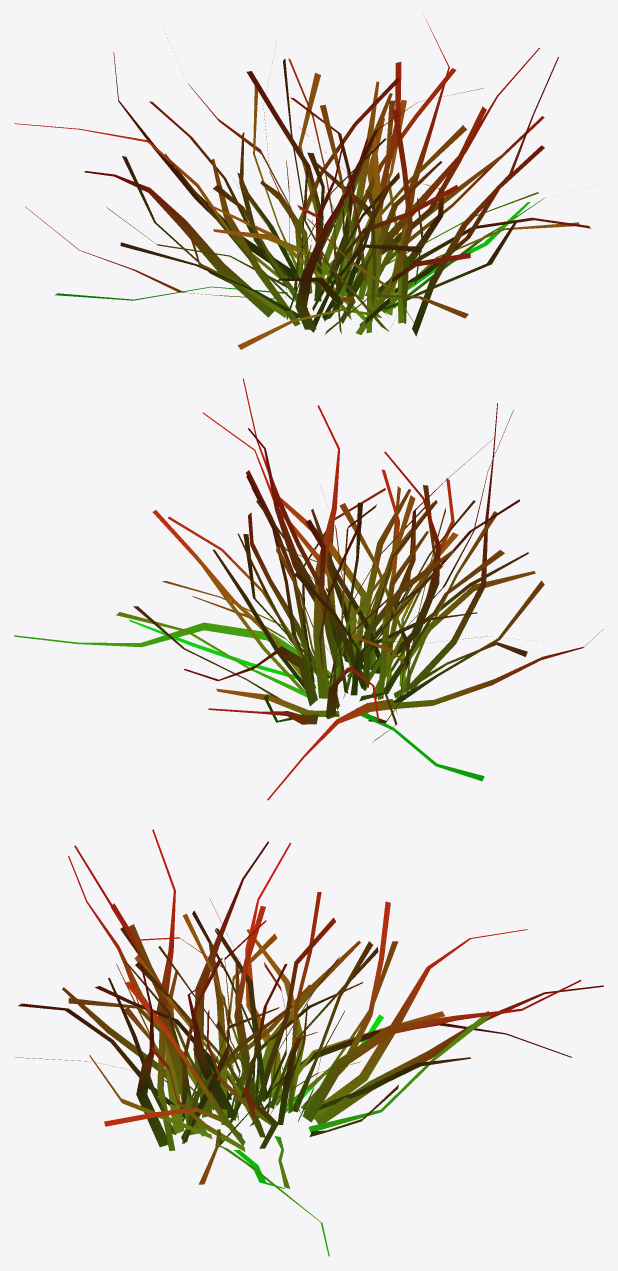
File: Wild Grass_LOD2_Var4_vlkhcbxia.fbx
3 renders of one model, top to bottom at view 1: azimuth 30°, elevation 25°; view 2: azimuth 150°, elevation 25°; view 3: azimuth 270°, elevation 25°, orthographic. The views are drawn at different scales.
Visible parts, largest first — view 1: _bwg4_Var4_LOD2; view 2: _bwg4_Var4_LOD2; view 3: _bwg4_Var4_LOD2.
Part boxes in pixels (x1,y1,x2,y2): _bwg4_Var4_LOD2: (14,20,590,349); _bwg4_Var4_LOD2: (14,378,603,800); _bwg4_Var4_LOD2: (15,829,603,1256).
Size of the model in its own units: 40.58 by 18.14 by 36.07.
